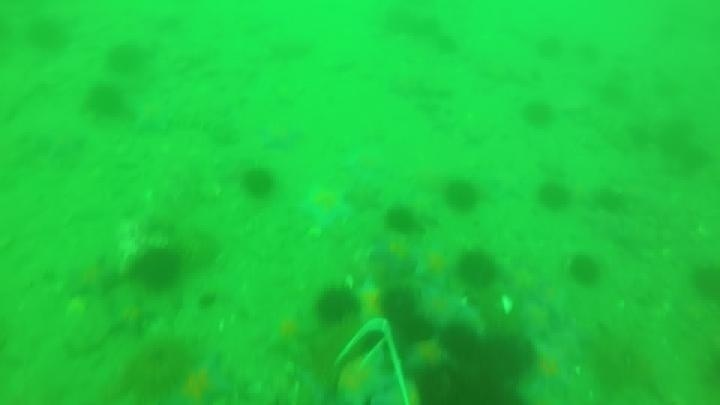echinus: (121, 339, 194, 403), (452, 358, 519, 405), (476, 332, 536, 383), (132, 246, 184, 292), (313, 285, 358, 327), (378, 286, 420, 329), (455, 250, 500, 290), (438, 322, 481, 363), (24, 17, 71, 54), (413, 366, 457, 405), (84, 83, 126, 120), (442, 178, 481, 215), (105, 42, 147, 75), (396, 314, 435, 347), (689, 262, 720, 302), (565, 255, 601, 289), (240, 167, 277, 200), (536, 180, 572, 212), (520, 99, 555, 130), (592, 186, 628, 216), (384, 205, 419, 235), (534, 34, 564, 61), (433, 33, 460, 57), (196, 290, 219, 312)
holothurian: (167, 102, 239, 140)
starfish: (515, 343, 576, 403), (334, 349, 398, 405), (168, 354, 234, 405), (296, 184, 353, 232), (264, 308, 316, 358), (64, 256, 120, 300), (107, 296, 158, 339), (418, 282, 468, 325), (370, 234, 418, 276), (292, 363, 340, 404), (400, 337, 449, 377), (128, 94, 174, 136), (412, 244, 456, 287), (355, 278, 393, 326), (529, 278, 571, 321), (515, 299, 558, 341), (341, 147, 391, 180), (257, 122, 305, 154), (343, 181, 383, 214)
